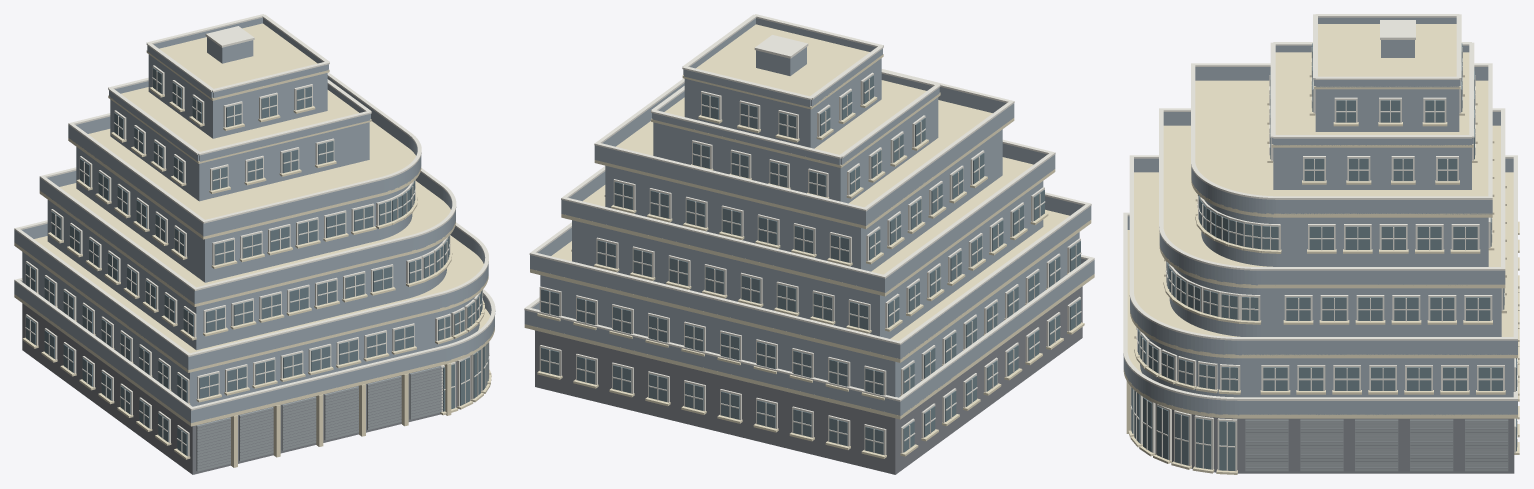
Rendered from edificio-garcia.glb.
The picture shows the model from 3 angles, left to right: view 1: azimuth 30°, elevation 25°; view 2: azimuth 150°, elevation 25°; view 3: azimuth 270°, elevation 25°; orthographic projection. The views are drawn at different scales.
Parts seen in each view (by area): view 1: edificio · mat-6b7f8f, edificio · mat-ead9a6, edificio · mat-f2eedc, edificio · mat-344952, edificio · mat-4a4f56, edificio · mat-69757b; view 2: edificio · mat-6b7f8f, edificio · mat-f2eedc, edificio · mat-ead9a6, edificio · mat-344952, edificio · mat-4a4f56; view 3: edificio · mat-6b7f8f, edificio · mat-ead9a6, edificio · mat-f2eedc, edificio · mat-344952, edificio · mat-69757b, edificio · mat-4a4f56.
Part boxes in pixels (<box>): edificio · mat-6b7f8f: <box>14,17,494,422</box>; edificio · mat-ead9a6: <box>14,23,494,467</box>; edificio · mat-f2eedc: <box>14,14,495,456</box>; edificio · mat-344952: <box>26,67,488,455</box>; edificio · mat-4a4f56: <box>22,303,470,474</box>; edificio · mat-69757b: <box>196,366,441,471</box>; edificio · mat-6b7f8f: <box>524,18,1094,415</box>; edificio · mat-f2eedc: <box>524,14,1094,455</box>; edificio · mat-ead9a6: <box>524,24,1094,458</box>; edificio · mat-344952: <box>541,75,1080,454</box>; edificio · mat-4a4f56: <box>535,286,1082,474</box>; edificio · mat-6b7f8f: <box>1123,17,1517,415</box>; edificio · mat-ead9a6: <box>1123,24,1519,474</box>; edificio · mat-f2eedc: <box>1123,14,1517,471</box>; edificio · mat-344952: <box>1131,43,1516,470</box>; edificio · mat-69757b: <box>1245,419,1508,471</box>; edificio · mat-4a4f56: <box>1155,403,1514,473</box>.
Size of the model in its own units: 20.88 by 18.33 by 18.77.
